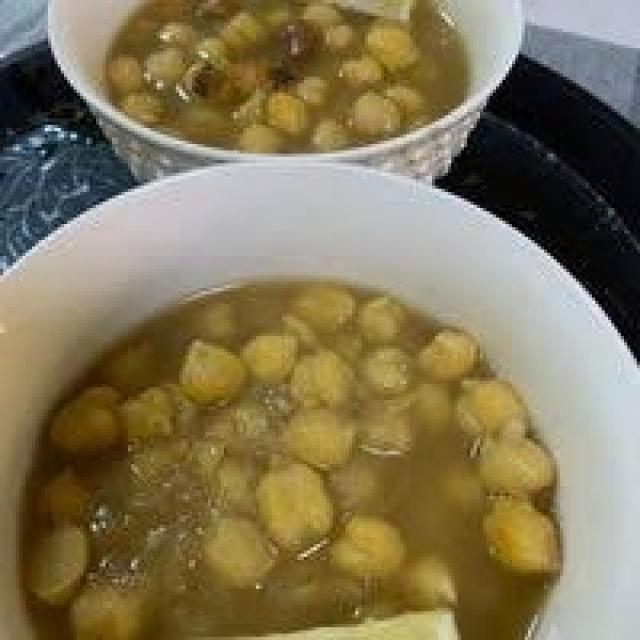Nakhi: (21, 270, 570, 640), (91, 0, 473, 146)
